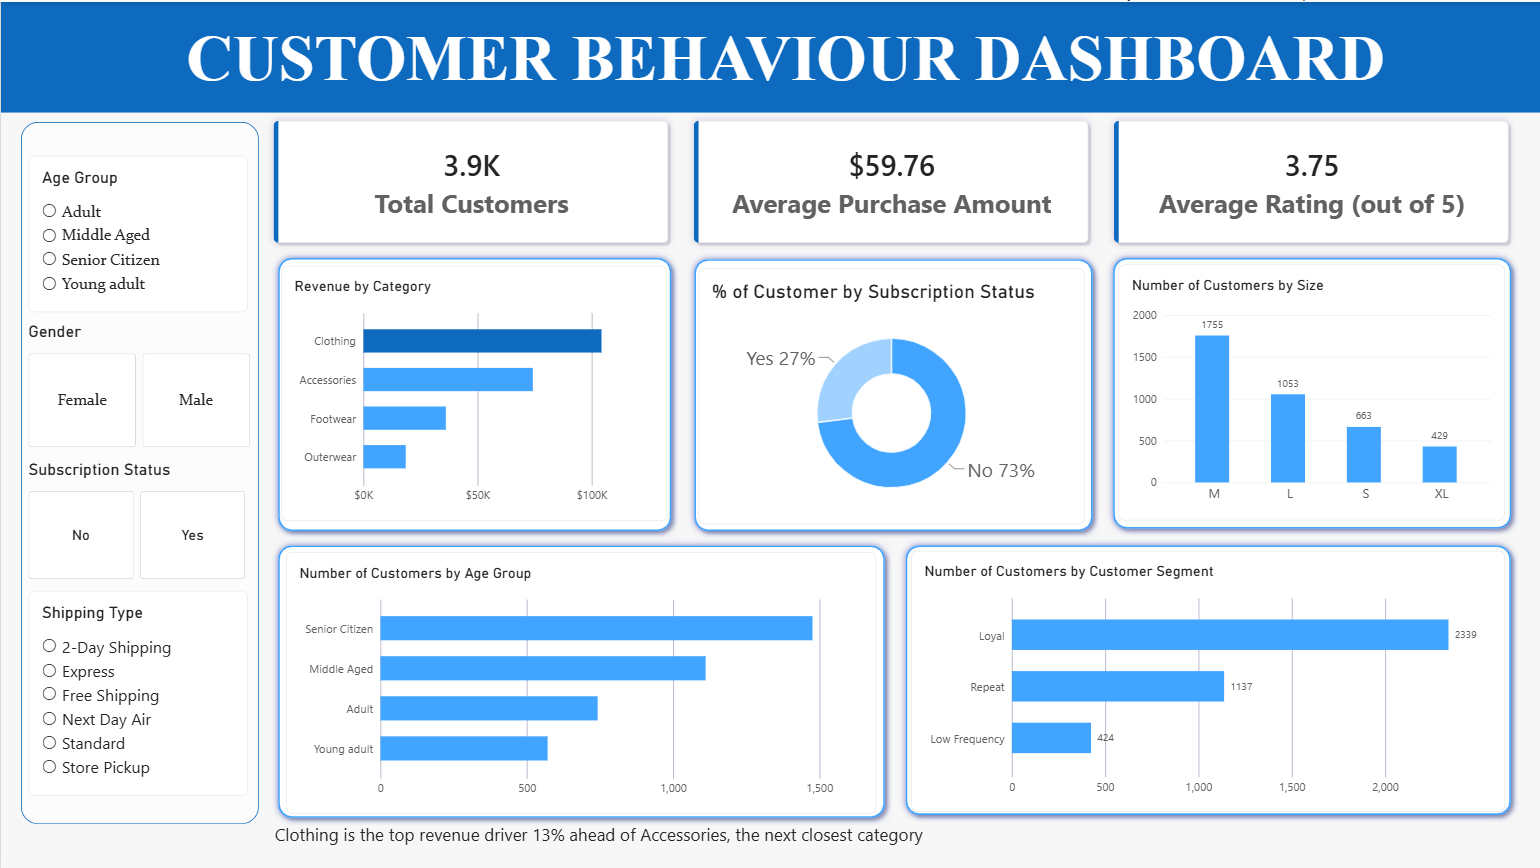

Layout of this report page (visuals, bound fields, positions):
{"tool":"powerbi","page":{"name":"Page 1","canvas":[1920,1080],"ordinal":0},"visuals":[{"type":"shape","box":[0,0,1920.4,137.8],"z":0},{"type":"shape","box":[24.4,150,296.5,875.6],"z":1000},{"type":"shape","box":[855.8,311.8,514.4,357],"z":2000},{"type":"shape","box":[336.6,668,774.4,357.6],"z":4000},{"type":"shape","box":[336.7,310.2,508.2,358.5],"z":5000},{"type":"textbox","box":[73.6,24.5,1775.5,94.3],"z":6000},{"type":"textbox","box":[160.4,24.5,1635.8,113.2],"z":7000},{"type":"cardVisual","fields":{"Data":["CountNonNull(public customer.customer_id)","Avg(public customer.purchase_amount)","Avg(public customer.review_rating)"]},"box":[329.7,137.8,1562.8,174.4],"z":8000},{"type":"shape","box":[1378.1,310.2,514.4,355.4],"z":8008},{"type":"shape","box":[1119.8,668,772.7,354.1],"z":8009},{"type":"donutChart","title":"% of Customer by Subscription Status","fields":{"Category":["public customer.subscription_status"],"Y":["CountNonNull(public customer.customer_id)"]},"box":[869.9,332,481.7,319.6],"z":8011},{"type":"clusteredBarChart","title":"Number of Customers by Age Group","fields":{"Category":["public customer.age_group"],"Y":["CountNonNull(public customer.customer_id)"]},"box":[355.8,685.5,736,326.2],"z":8012},{"type":"clusteredBarChart","title":"Revenue by Category","fields":{"Category":["public customer.category"],"Y":["Sum(public customer.purchase_amount)"]},"box":[349.2,328.9,481.7,318],"z":8013},{"type":"clusteredColumnChart","title":"Number of Customers by Size","fields":{"Category":["public customer.size"],"Y":["Count(public customer.customer_id)"]},"box":[1393.7,327.4,481.7,319.6],"z":8014},{"type":"clusteredBarChart","title":"Number of Customers by Customer Segment","fields":{"Category":["public customer.Customer Segment"],"Y":["CountNonNull(public customer.previous_purchases)"]},"box":[1134.9,684.4,740.5,325.8],"z":8015},{"type":"listSlicer","title":"Age Group","fields":{"Values":["public customer.age_group"]},"box":[34.9,191.9,273.8,195.3],"z":8017},{"type":"advancedSlicerVisual","title":"Gender","fields":{"Values":["public customer.gender"]},"box":[34.9,399.4,277.3,157],"z":8018},{"type":"listSlicer","title":"Shipping Type","fields":{"Values":["public customer.shipping_type"]},"box":[34.3,734.2,273.8,256.4],"z":8019},{"type":"textbox","box":[341.4,1022.6,1551.1,57.7],"z":8021},{"type":"advancedSlicerVisual","title":"Subscription Status","fields":{"Values":["public customer.subscription_status"]},"box":[34.3,570.6,270.3,150],"z":8022}]}

Visuals, with their boxes in screenshot pixels (x1, y1, x2, y2), scaled from the page's 1920x1080 canvas onto the 1540x868 screenshot:
shape: rect(0, 0, 1539, 111)
shape: rect(20, 121, 257, 824)
shape: rect(686, 251, 1099, 538)
shape: rect(270, 537, 891, 824)
shape: rect(270, 249, 678, 537)
textbox: rect(59, 20, 1483, 95)
textbox: rect(129, 20, 1441, 111)
cardVisual - CountNonNull(public customer.customer_id) x Avg(public customer.purchase_amount): rect(264, 111, 1518, 251)
shape: rect(1105, 249, 1518, 535)
shape: rect(898, 537, 1518, 821)
"% of Customer by Subscription Status" donutChart: rect(698, 267, 1084, 524)
"Number of Customers by Age Group" clusteredBarChart: rect(285, 551, 876, 813)
"Revenue by Category" clusteredBarChart: rect(280, 264, 666, 520)
"Number of Customers by Size" clusteredColumnChart: rect(1118, 263, 1504, 520)
"Number of Customers by Customer Segment" clusteredBarChart: rect(910, 550, 1504, 812)
"Age Group" listSlicer: rect(28, 154, 248, 311)
"Gender" advancedSlicerVisual: rect(28, 321, 250, 447)
"Shipping Type" listSlicer: rect(28, 590, 247, 796)
textbox: rect(274, 822, 1518, 867)
"Subscription Status" advancedSlicerVisual: rect(28, 459, 244, 579)
